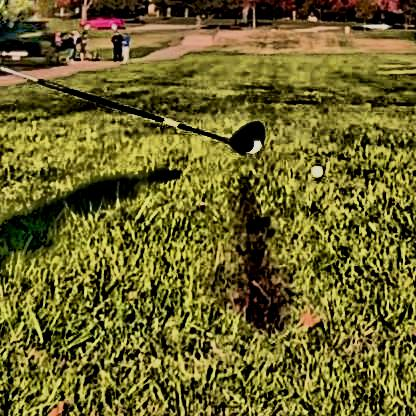golfball: (306, 161, 321, 176)
